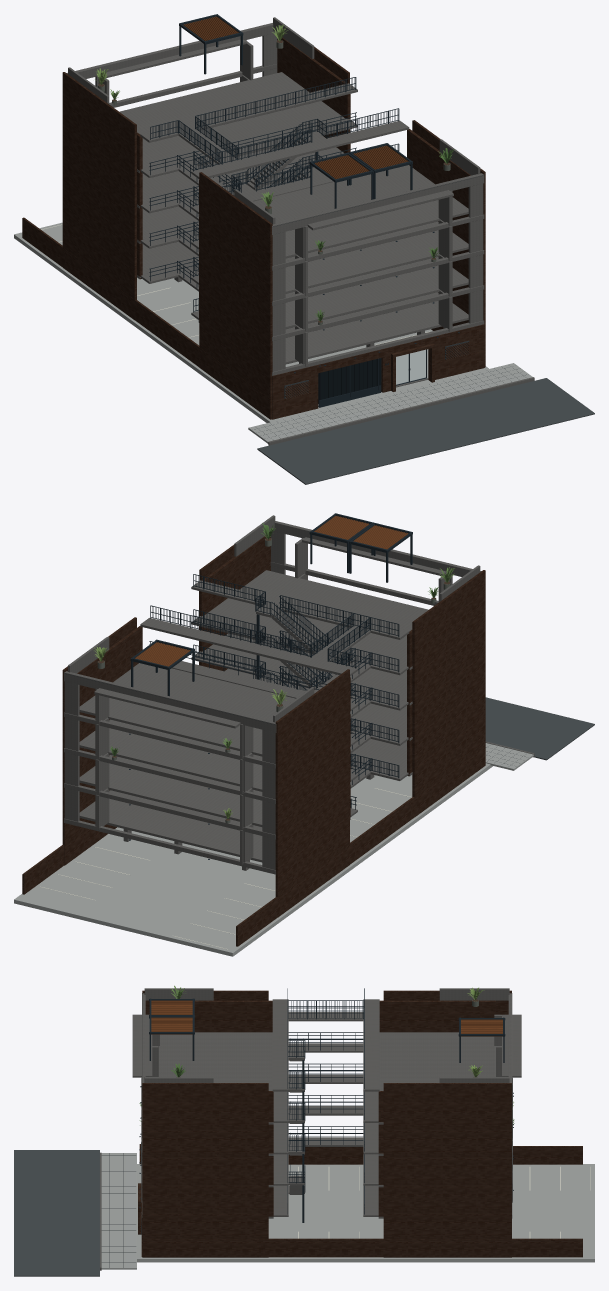
File: envolvente-v7.glb
3 views of the same model, one above another, from view 1: azimuth 30°, elevation 25°; view 2: azimuth 150°, elevation 25°; view 3: azimuth 270°, elevation 25° (orthographic). The views are drawn at different scales.
Visible parts, largest first — view 1: Losa_estructural, Jamba_lateral, Calle, Medianera_ladrillo, Medianera_ladrillo.002, Terreno, Escalera_pasamanos_0, Escalera_tramo_0_1, Basamento_ladrillo, Medianera, Galeria, Muro_lindero (+8 smaller); view 2: Losa_estructural, Terreno, Jamba_lateral.016, Medianera_ladrillo.002, Medianera_ladrillo, Escalera_pasamanos_0, Escalera_tramo_0_1, Galeria, Muro_lindero, Medianera, Jamba_lateral, Calle (+4 smaller); view 3: Medianera_ladrillo.002, Medianera_ladrillo, Terreno, Muro_lindero, Losa_estructural, Calle, Medianera, Galeria, Escalera_tramo_0_1, Escalera_pasamanos_0, Parapeto_lateral, Pasamanos_galeria.012 (+5 smaller).
Boxes of the visible parts, bbox=[...] form: Losa_estructural: bbox=[119, 72, 468, 364]; Jamba_lateral: bbox=[272, 173, 484, 375]; Calle: bbox=[257, 378, 594, 484]; Medianera_ladrillo: bbox=[199, 120, 485, 419]; Medianera_ladrillo.002: bbox=[62, 38, 349, 319]; Terreno: bbox=[14, 222, 532, 443]; Escalera_pasamanos_0: bbox=[150, 77, 399, 312]; Escalera_tramo_0_1: bbox=[140, 83, 409, 193]; Basamento_ladrillo: bbox=[272, 324, 484, 419]; Medianera: bbox=[137, 37, 470, 319]; Galeria: bbox=[140, 119, 357, 319]; Muro_lindero: bbox=[22, 217, 269, 418]; Losa_estructural: bbox=[79, 570, 428, 870]; Terreno: bbox=[14, 743, 533, 956]; Jamba_lateral.016: bbox=[64, 671, 276, 874]; Medianera_ladrillo.002: bbox=[62, 617, 349, 917]; Medianera_ladrillo: bbox=[199, 536, 485, 815]; Escalera_pasamanos_0: bbox=[150, 574, 399, 808]; Escalera_tramo_0_1: bbox=[140, 580, 409, 689]; Galeria: bbox=[172, 616, 408, 816]; Muro_lindero: bbox=[22, 746, 485, 946]; Medianera: bbox=[77, 535, 412, 817]; Jamba_lateral: bbox=[270, 521, 481, 605]; Calle: bbox=[485, 697, 594, 760]; Medianera_ladrillo.002: bbox=[383, 990, 511, 1257]; Medianera_ladrillo: bbox=[142, 990, 268, 1257]; Terreno: bbox=[101, 1153, 594, 1269]; Muro_lindero: bbox=[143, 1146, 582, 1257]; Losa_estructural: bbox=[158, 1032, 495, 1218]; Calle: bbox=[14, 1150, 99, 1276]; Medianera: bbox=[194, 1000, 495, 1216]; Galeria: bbox=[273, 1043, 378, 1216]; Escalera_tramo_0_1: bbox=[272, 999, 379, 1194]; Escalera_pasamanos_0: bbox=[287, 988, 364, 1222]; Parapeto_lateral: bbox=[144, 988, 509, 1082]; Pasamanos_galeria.012: bbox=[288, 1032, 364, 1214].
Bounding box in the file's own units: 24.89 × 18.41 × 48.66.
15 materials, 3 textured.
